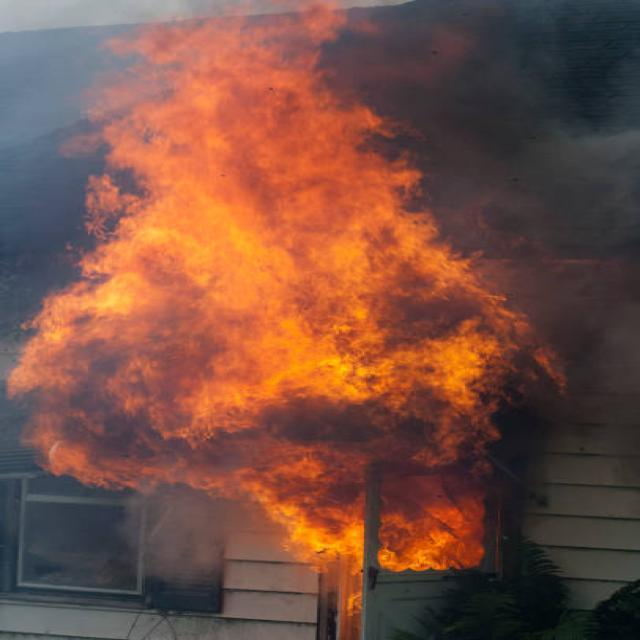Fire: (36, 28, 556, 562)
Smoke: (358, 0, 640, 375)
